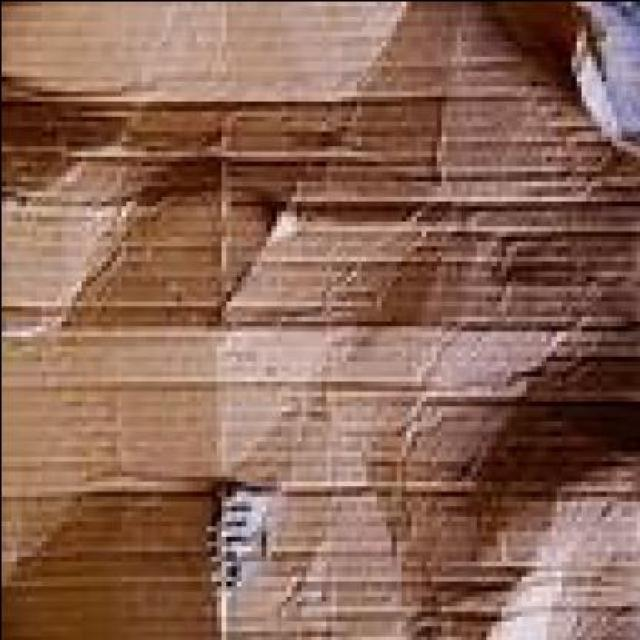CARDBOARD: (1, 3, 637, 639)
